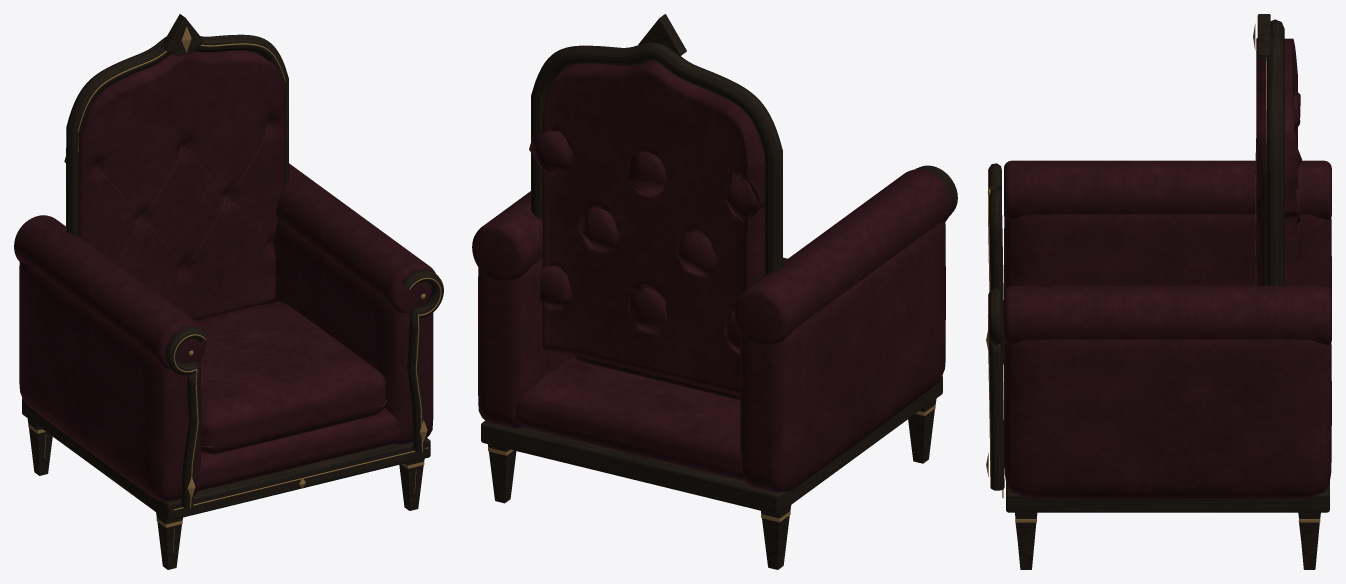
Rendered from gotico_poltrona.glb.
3 views of the same model, side by side, from view 1: azimuth 30°, elevation 25°; view 2: azimuth 150°, elevation 25°; view 3: azimuth 270°, elevation 25° (orthographic). The views are drawn at different scales.
Visible parts, largest first — view 1: poltrona; view 2: poltrona; view 3: poltrona.
Part boxes in pixels (bbox=[...]): poltrona: bbox=[14, 14, 443, 569]; poltrona: bbox=[472, 14, 957, 569]; poltrona: bbox=[986, 14, 1331, 569].
Size of the model in its own units: 0.8896 by 1.33 by 0.854.
4 materials, 2 textured.
